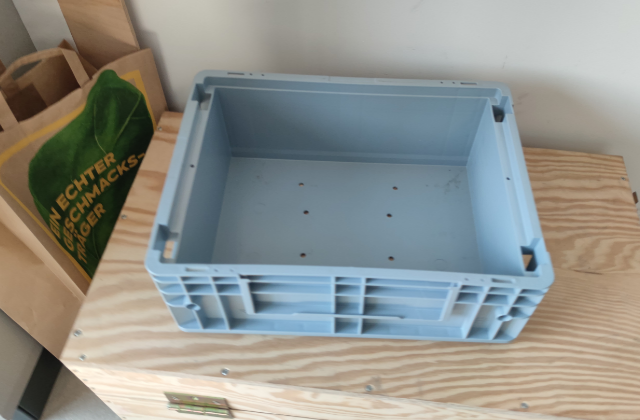Box: (142, 68, 554, 347)
